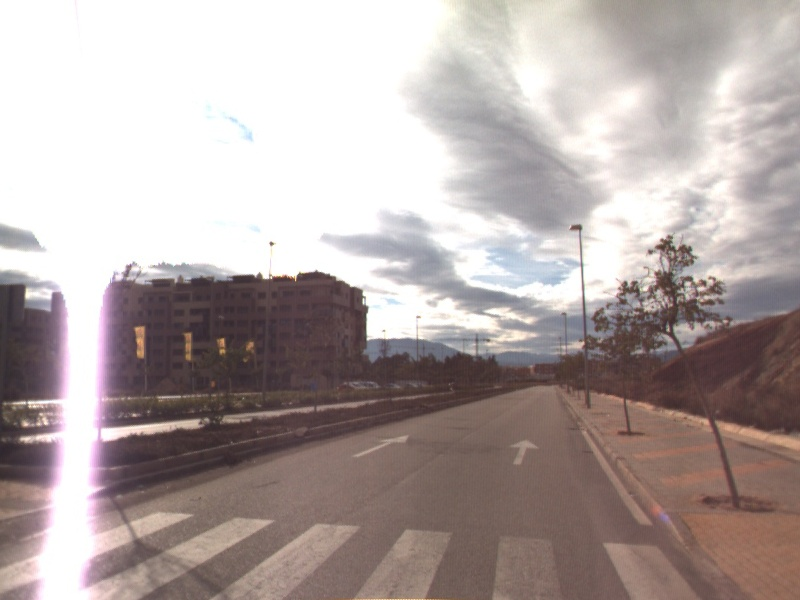STRAIGHT: (350, 433, 411, 459), (508, 437, 542, 467)
